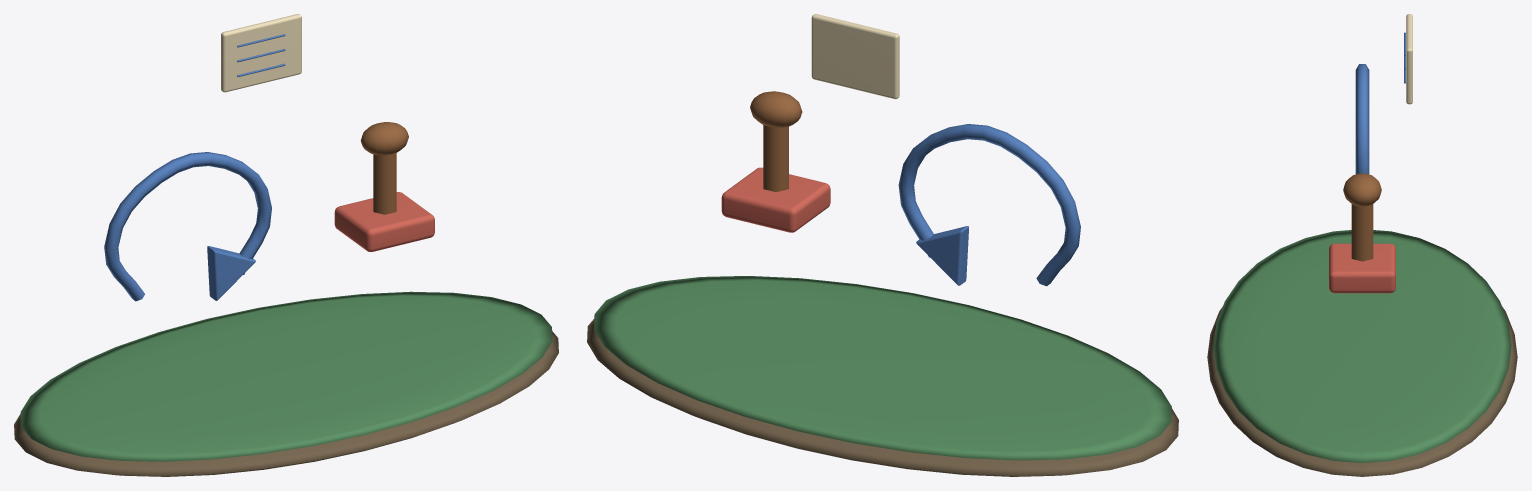
Rendered from complete-third-repeated-stamp-copy.glb.
3 renders of one model, left to right at view 1: azimuth 30°, elevation 25°; view 2: azimuth 150°, elevation 25°; view 3: azimuth 270°, elevation 25°, orthographic. The views are drawn at different scales.
Parts seen in each view (by area): view 1: complete-third-repeated-stamp-copy_surface_01, complete-third-repeated-stamp-copy_surface_00, complete-third-repeated-stamp-copy_surface_02, complete-third-repeated-stamp-copy_surface_05, complete-third-repeated-stamp-copy_surface_03, complete-third-repeated-stamp-copy_surface_04; view 2: complete-third-repeated-stamp-copy_surface_01, complete-third-repeated-stamp-copy_surface_00, complete-third-repeated-stamp-copy_surface_02, complete-third-repeated-stamp-copy_surface_05, complete-third-repeated-stamp-copy_surface_03, complete-third-repeated-stamp-copy_surface_04; view 3: complete-third-repeated-stamp-copy_surface_01, complete-third-repeated-stamp-copy_surface_00, complete-third-repeated-stamp-copy_surface_03, complete-third-repeated-stamp-copy_surface_04, complete-third-repeated-stamp-copy_surface_02, complete-third-repeated-stamp-copy_surface_05.
Part boxes in pixels (<box>): complete-third-repeated-stamp-copy_surface_01: <box>20,291,552,461</box>; complete-third-repeated-stamp-copy_surface_00: <box>14,331,558,476</box>; complete-third-repeated-stamp-copy_surface_02: <box>104,34,285,301</box>; complete-third-repeated-stamp-copy_surface_05: <box>221,14,301,92</box>; complete-third-repeated-stamp-copy_surface_03: <box>334,192,434,251</box>; complete-third-repeated-stamp-copy_surface_04: <box>360,122,408,214</box>; complete-third-repeated-stamp-copy_surface_01: <box>594,276,1171,460</box>; complete-third-repeated-stamp-copy_surface_00: <box>587,319,1178,476</box>; complete-third-repeated-stamp-copy_surface_02: <box>898,124,1080,286</box>; complete-third-repeated-stamp-copy_surface_05: <box>811,14,899,99</box>; complete-third-repeated-stamp-copy_surface_03: <box>721,167,830,232</box>; complete-third-repeated-stamp-copy_surface_04: <box>750,91,802,192</box>; complete-third-repeated-stamp-copy_surface_01: <box>1213,230,1511,462</box>; complete-third-repeated-stamp-copy_surface_00: <box>1207,306,1517,476</box>; complete-third-repeated-stamp-copy_surface_03: <box>1329,243,1395,293</box>; complete-third-repeated-stamp-copy_surface_04: <box>1343,173,1381,261</box>; complete-third-repeated-stamp-copy_surface_02: <box>1355,32,1405,174</box>; complete-third-repeated-stamp-copy_surface_05: <box>1406,14,1412,104</box>.
Size of the model in its own units: 4.56 by 3.03 by 2.5.
